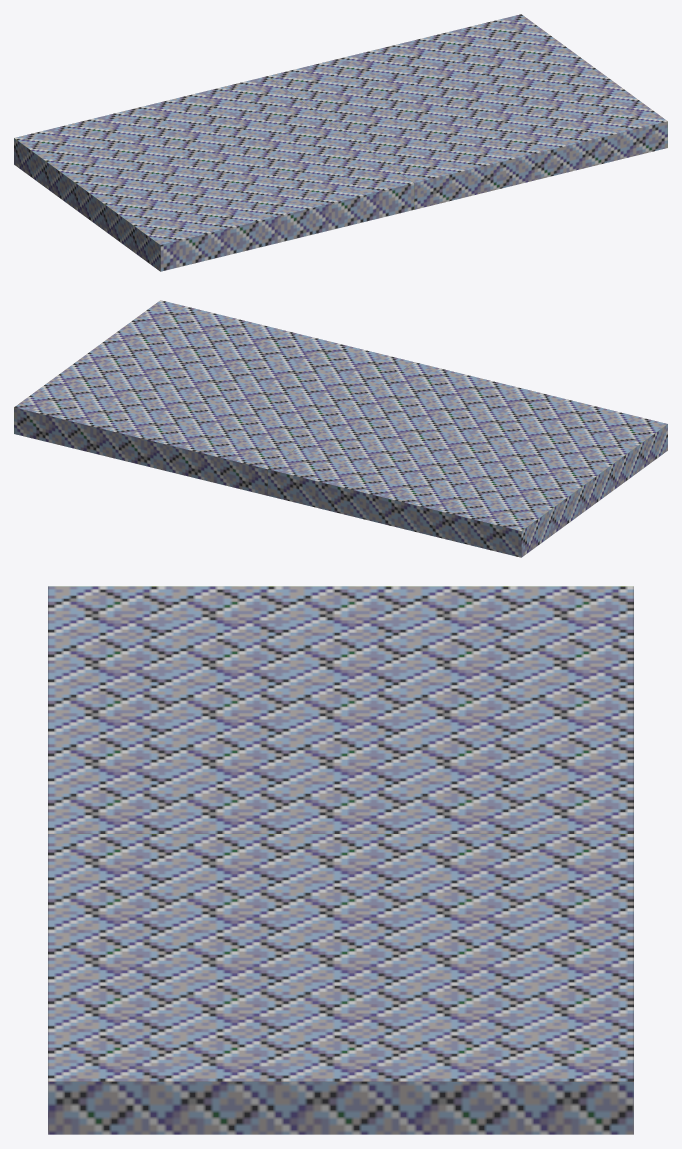
File: Stone_Path_10x5.fbx
3 renders of one model, top to bottom at view 1: azimuth 30°, elevation 25°; view 2: azimuth 150°, elevation 25°; view 3: azimuth 270°, elevation 25°, orthographic. The views are drawn at different scales.
Visible parts, largest first — view 1: Cube; view 2: Cube; view 3: Cube.
Part boxes in pixels (x1,y1,x2,y2): Cube: (14,14,667,271); Cube: (14,300,667,557); Cube: (48,586,633,1134).
Size of the model in its own units: 1000 by 50 by 500.
